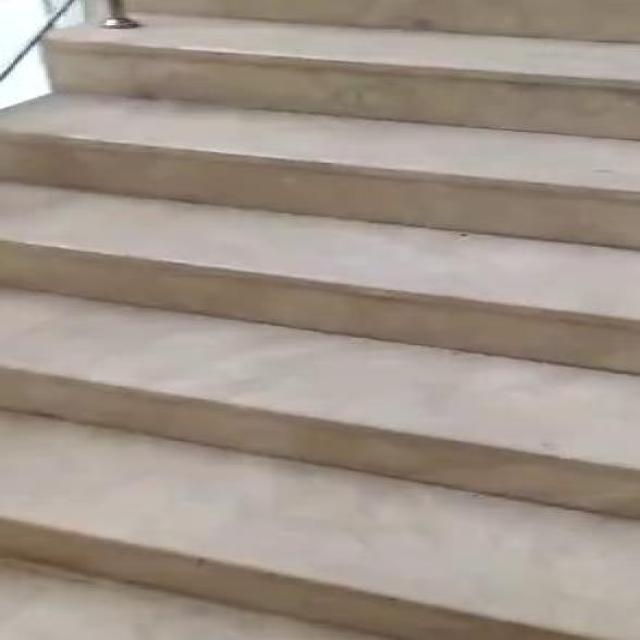Stairs: (15, 18, 620, 627)
